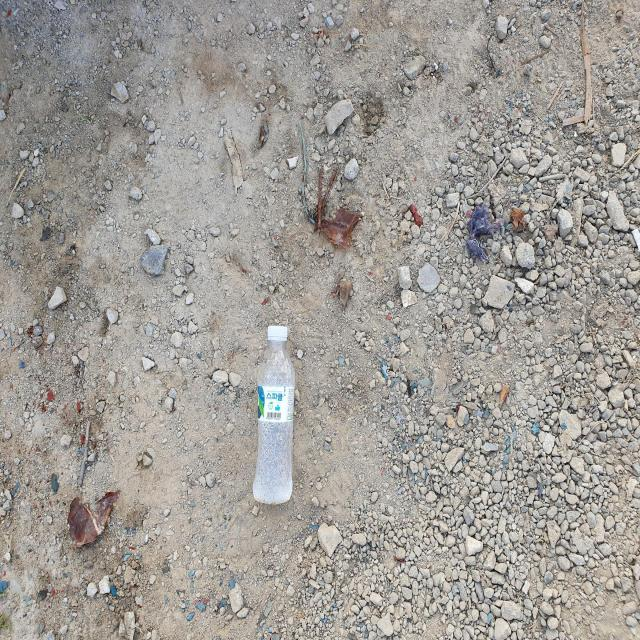plastic: (253, 326, 295, 505)
